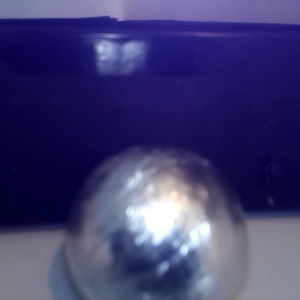zone: (1, 15, 300, 230)
